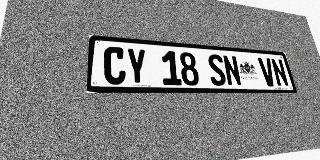1: (160, 50, 182, 85)
8: (179, 52, 200, 85)
C: (103, 46, 126, 85)
N: (222, 55, 242, 86), (270, 58, 289, 87)
S: (207, 54, 227, 86)
V: (257, 57, 277, 86)
Y: (126, 48, 148, 85)
